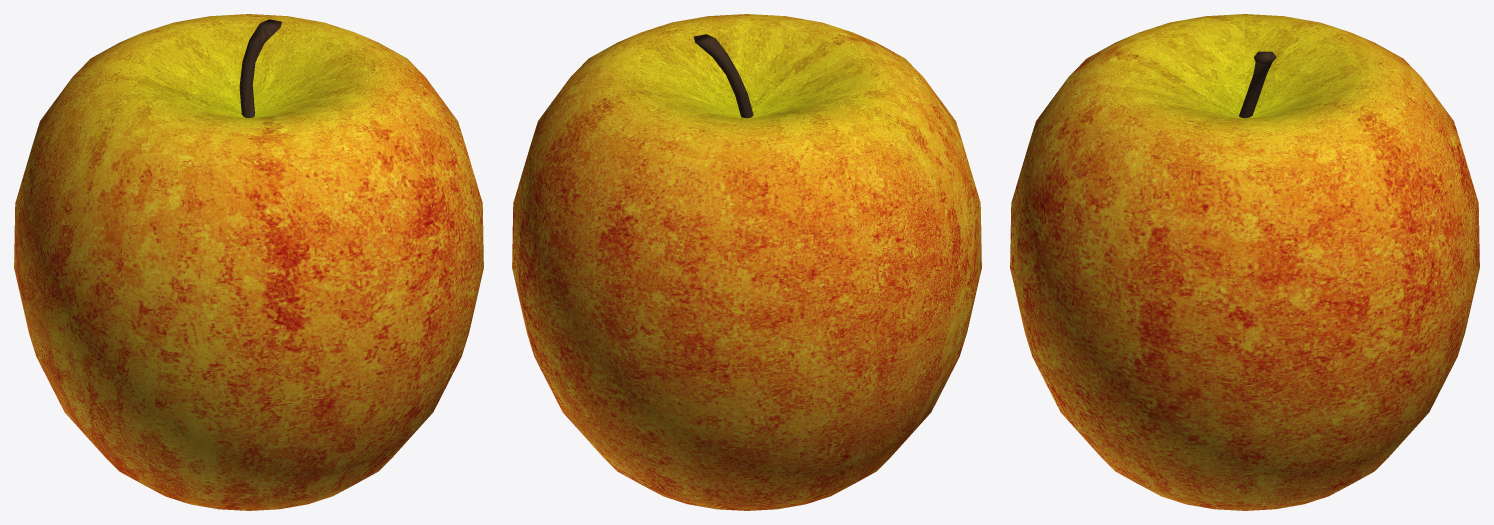
The picture shows the model from 3 angles, left to right: view 1: azimuth 30°, elevation 25°; view 2: azimuth 150°, elevation 25°; view 3: azimuth 270°, elevation 25°; orthographic projection.
Parts seen in each view (by area): view 1: Apple_Material #25_0, AppleTop; view 2: Apple_Material #25_0, AppleTop; view 3: Apple_Material #25_0, AppleTop.
Boxes of the visible parts, x1,y1,x2,y2 form: Apple_Material #25_0: (14, 14, 483, 510); AppleTop: (239, 19, 281, 118); Apple_Material #25_0: (512, 14, 981, 510); AppleTop: (694, 34, 753, 118); Apple_Material #25_0: (1010, 14, 1479, 510); AppleTop: (1239, 51, 1276, 118).
Bounding box in the file's own units: 32.87 × 33.22 × 32.87.
1 material, 1 textured.
